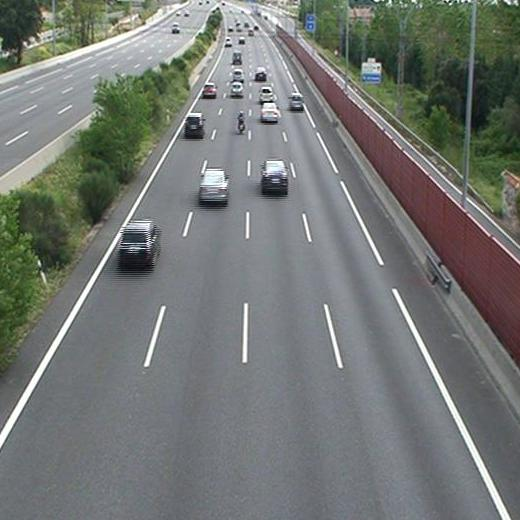car: (120, 222, 157, 261), (199, 169, 226, 200), (261, 161, 288, 189), (184, 113, 204, 135), (261, 103, 278, 121), (290, 93, 303, 109), (202, 83, 216, 97), (258, 88, 273, 101), (231, 82, 245, 95), (232, 69, 245, 81), (254, 68, 266, 80), (232, 52, 243, 63), (224, 36, 232, 47)
motorcycle: (236, 109, 247, 134)
